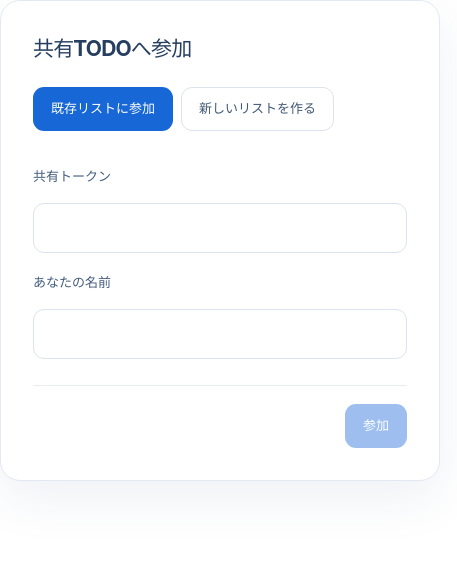
Test: ログイン・参加画面 › 参加に失敗すると内容エラーを表示し、セッションと入力値を変えない
Type "bad-token" into the field labelled "共有トークン" at (220, 228), box [33,203,407,253]
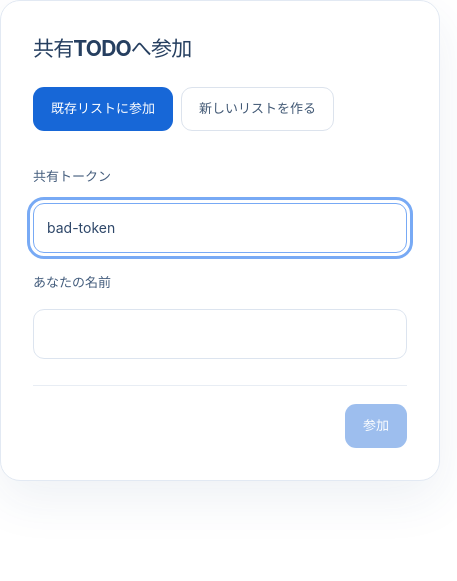
Type "はる" into the field labelled "あなたの名前" at (220, 334), box [33,309,407,359]
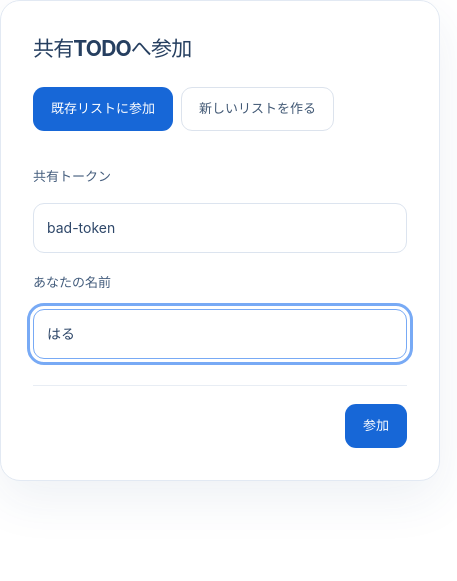
Click the button "参加" at (376, 426), box [345,404,407,448]
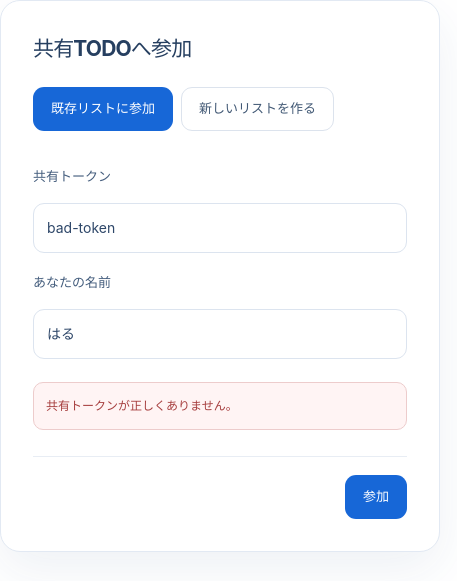
Check: the text "共有トークンが正しくありません。" is shown, box [33,382,407,430]
Check: the message reads "共有トークンが正しくありません。", box [46,398,238,413]
